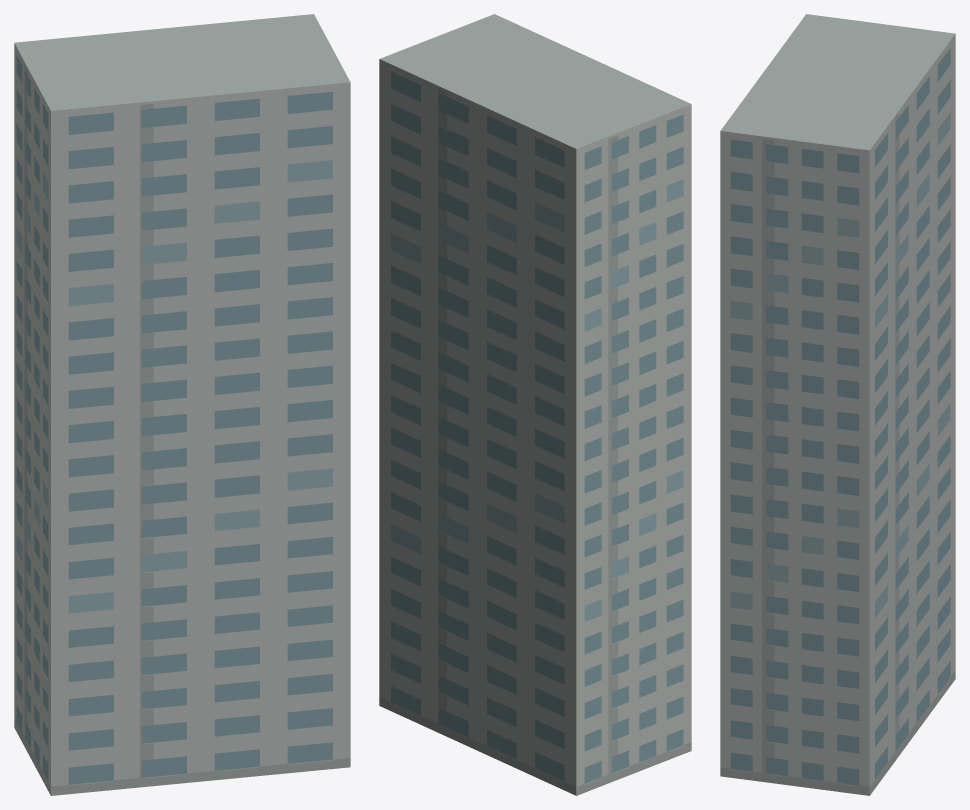
The model's file is residential-6f31004b-1c75-4e56-ad97-79d247bb9fec.glb.
3 renders of one model, left to right at view 1: azimuth 30°, elevation 25°; view 2: azimuth 150°, elevation 25°; view 3: azimuth 270°, elevation 25°, orthographic. The views are drawn at different scales.
Parts seen in each view (by area): view 1: residential-6f31004b-1c75-4e56-ad97-79d247bb9fec.tmp; view 2: residential-6f31004b-1c75-4e56-ad97-79d247bb9fec.tmp; view 3: residential-6f31004b-1c75-4e56-ad97-79d247bb9fec.tmp.
Part boxes in pixels (x1,y1,x2,y2): residential-6f31004b-1c75-4e56-ad97-79d247bb9fec.tmp: (14,14,350,795); residential-6f31004b-1c75-4e56-ad97-79d247bb9fec.tmp: (379,14,691,795); residential-6f31004b-1c75-4e56-ad97-79d247bb9fec.tmp: (720,14,955,795).
Bounding box in the file's own units: 29.48 × 65 × 21.47.
